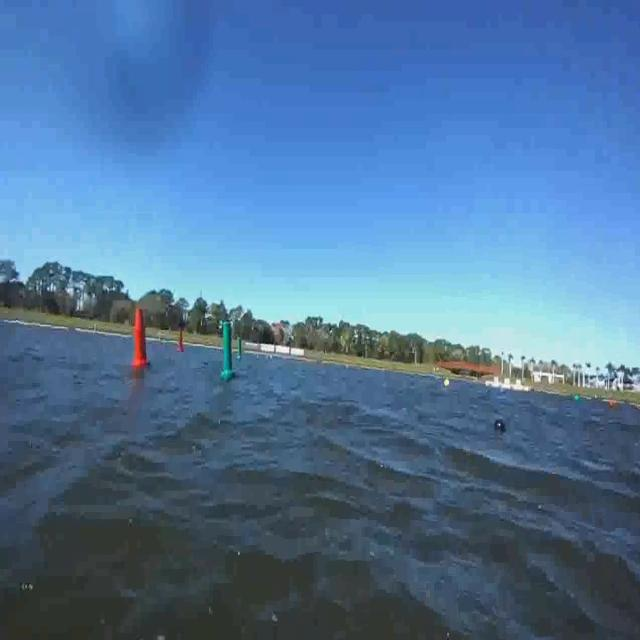green-column-buoy: (220, 322, 235, 380), (236, 334, 244, 362)
red-column-buoy: (132, 310, 150, 370), (177, 328, 185, 354)
